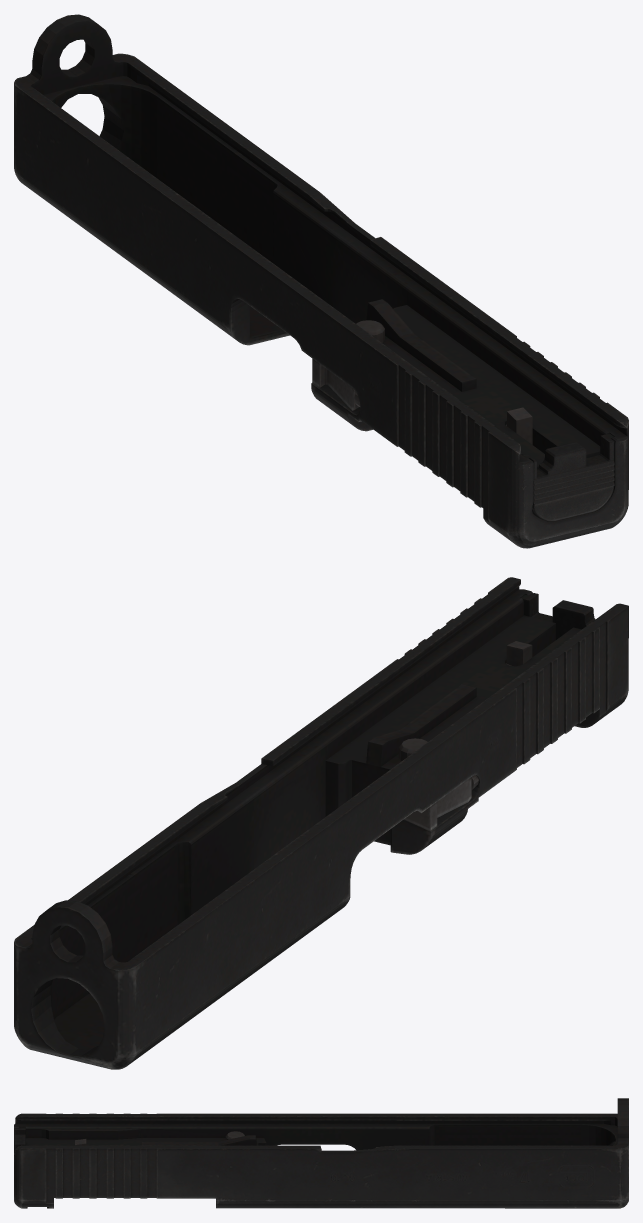
3 views of the same model, one above another, from view 1: azimuth 30°, elevation 25°; view 2: azimuth 150°, elevation 25°; view 3: azimuth 270°, elevation 25° (orthographic). The views are drawn at different scales.
Parts seen in each view (by area): view 1: TW_615d8dbd290d254f5e6b2ed6_PZ_Import; view 2: TW_615d8dbd290d254f5e6b2ed6_PZ_Import; view 3: TW_615d8dbd290d254f5e6b2ed6_PZ_Import.
Boxes of the visible parts, <box> form: TW_615d8dbd290d254f5e6b2ed6_PZ_Import: <box>14,14,628,548</box>; TW_615d8dbd290d254f5e6b2ed6_PZ_Import: <box>14,577,628,1069</box>; TW_615d8dbd290d254f5e6b2ed6_PZ_Import: <box>14,1098,628,1208</box>.
Bounding box in the file's own units: 0.0145 × 0.1058 × 0.0181.
Materials: 1 (1 with a texture image).
